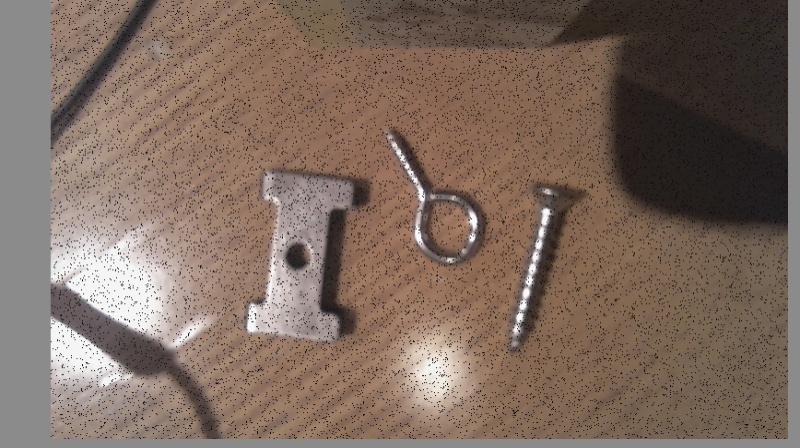O001: (378, 121, 489, 269)
O002: (243, 163, 359, 344)
S001: (500, 176, 580, 355)
